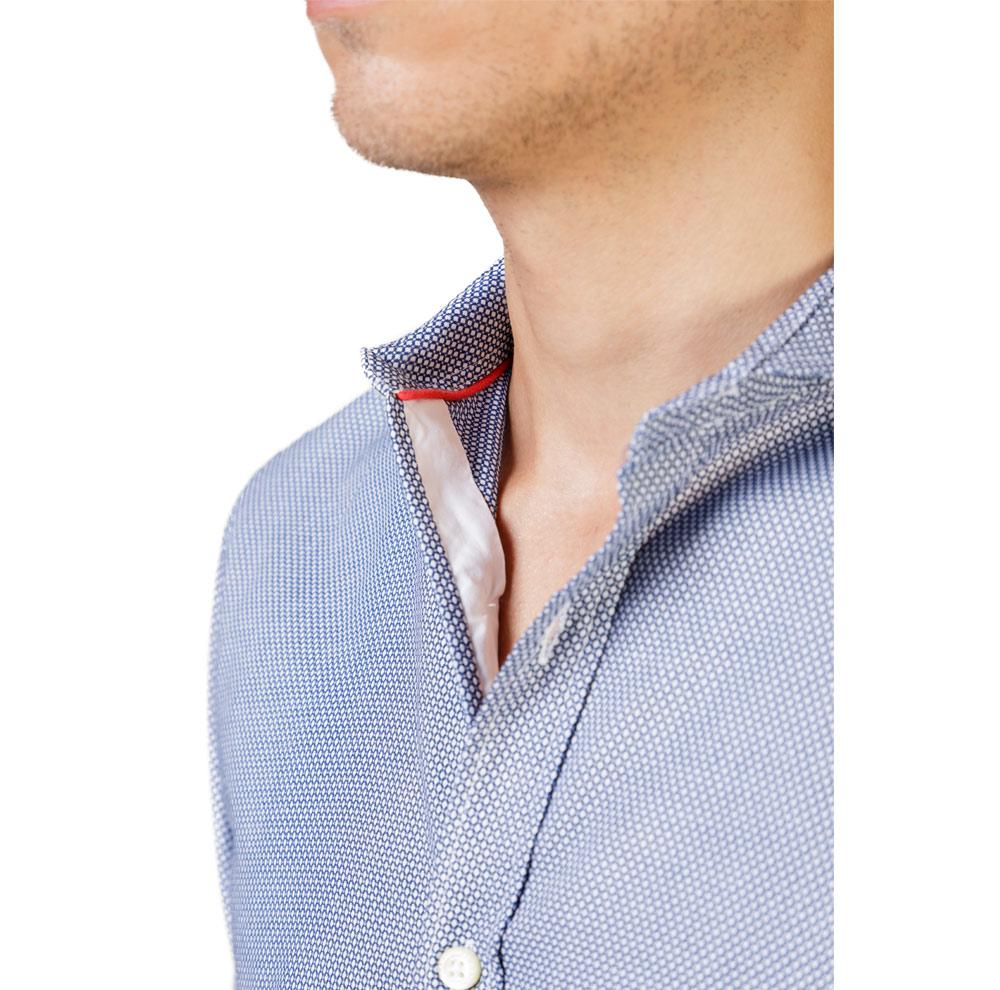teeshirt: (162, 248, 897, 990)
